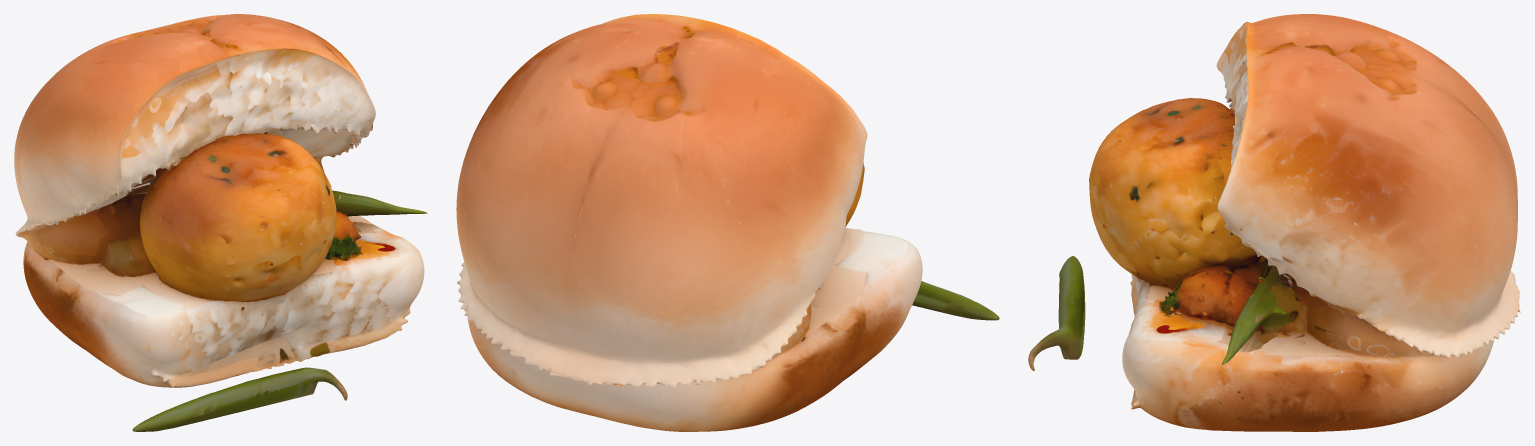
The model's file is vadapavt.glb.
The picture shows the model from 3 angles, left to right: view 1: azimuth 30°, elevation 25°; view 2: azimuth 150°, elevation 25°; view 3: azimuth 270°, elevation 25°; orthographic projection. The views are drawn at different scales.
Parts seen in each view (by area): view 1: model_0; view 2: model_0; view 3: model_0.
Boxes of the visible parts, bbox=[...] form: model_0: bbox=[14, 14, 427, 431]; model_0: bbox=[456, 14, 999, 431]; model_0: bbox=[1028, 14, 1520, 431].
Size of the model in its own units: 1.81 by 1.35 by 1.9.
1 material, 1 textured.
